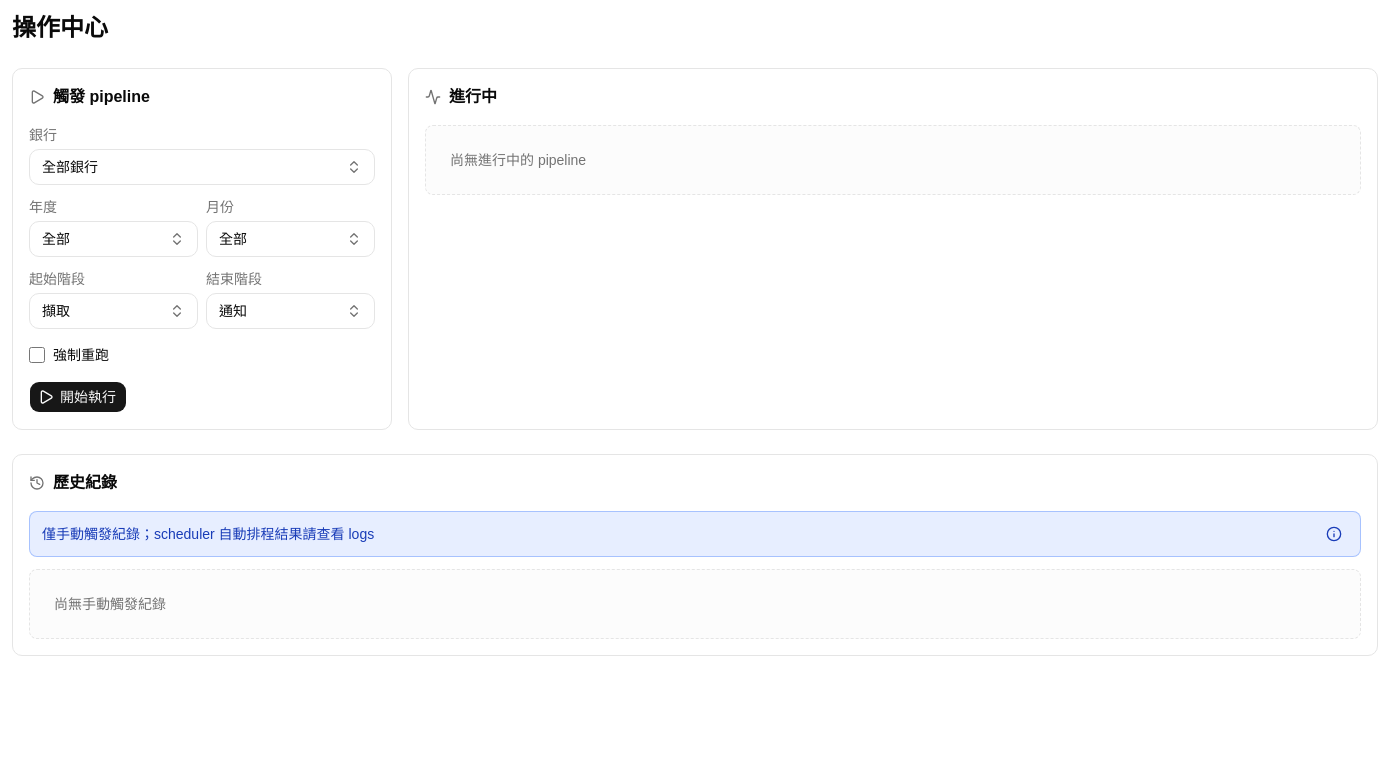
Scenario: OperationsPage › renders stage options with Chinese labels
Expected: the dropdown labelled "銀行" is shown, [29,149,375,185]
Click the dropdown named "起始階段" at point(114, 311), box [29,293,198,329]
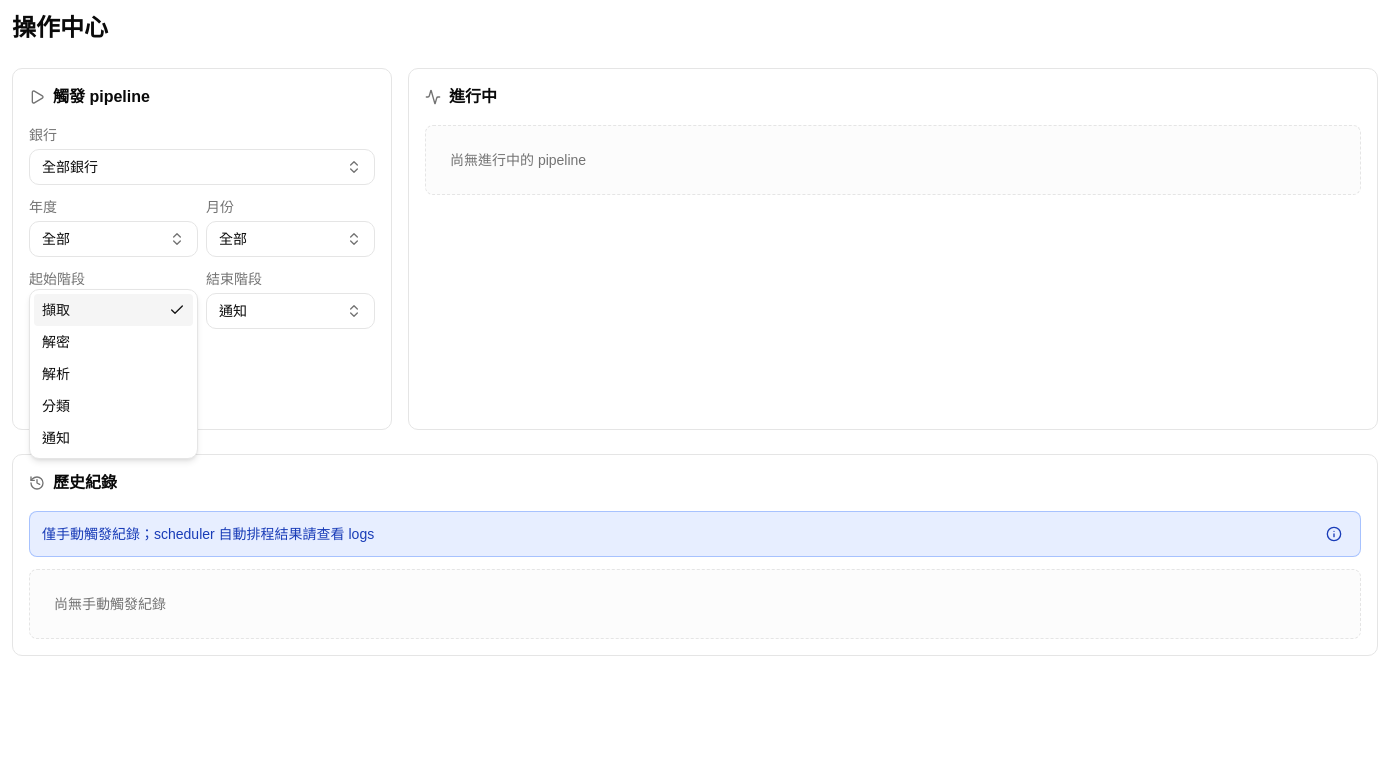
Expected: the option "擷取" is shown, [34,294,193,326]
Expected: the option "解析" is shown, [42,366,70,382]
Expected: the option "通知" is shown, [42,430,70,446]
